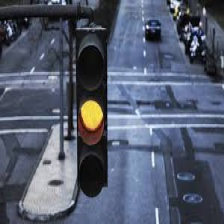semaforo: (75, 28, 107, 197)
